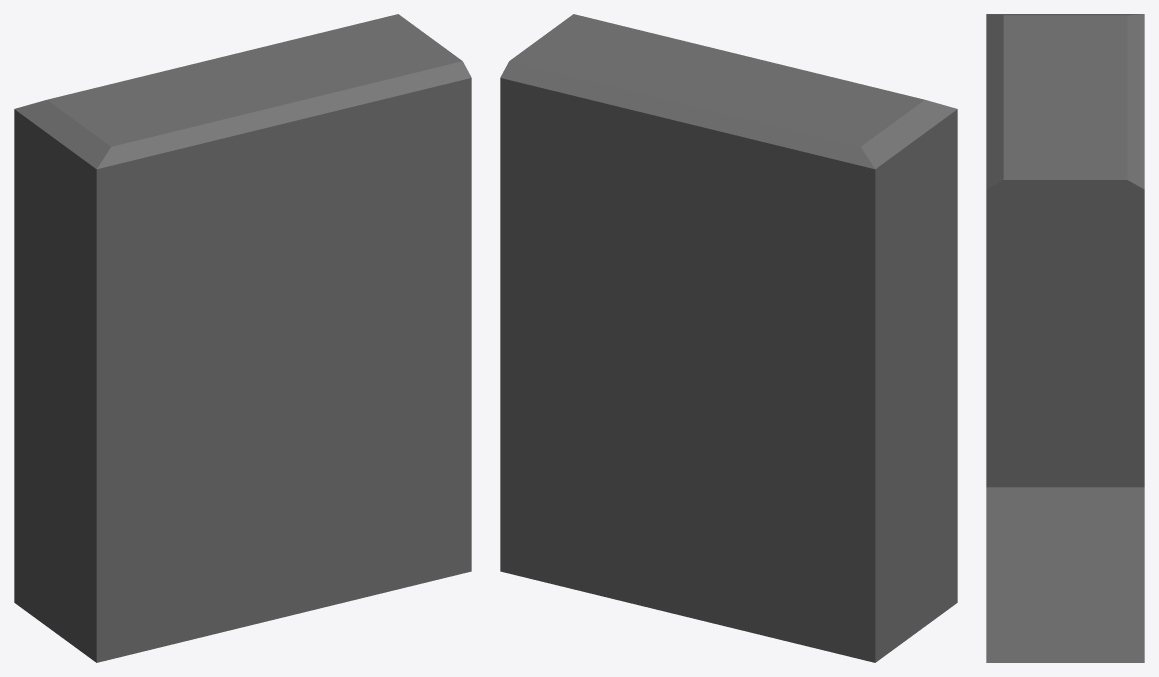
File: Itr_Couch_Outside_Back_Left_03.FBX
3 views of the same model, side by side, from view 1: azimuth 30°, elevation 25°; view 2: azimuth 150°, elevation 25°; view 3: azimuth 270°, elevation 25° (orthographic). The views are drawn at different scales.
Parts seen in each view (by area): view 1: Itr_Couch_Outside_Back_Left_03; view 2: Itr_Couch_Outside_Back_Left_03; view 3: Itr_Couch_Outside_Back_Left_03.
Boxes of the visible parts, left/top/right/bottom form: Itr_Couch_Outside_Back_Left_03: left=14, top=14, right=471, bottom=662; Itr_Couch_Outside_Back_Left_03: left=500, top=14, right=957, bottom=662; Itr_Couch_Outside_Back_Left_03: left=986, top=14, right=1144, bottom=662.
Bounding box in the file's own units: 18.89 × 24.24 × 7.19.
